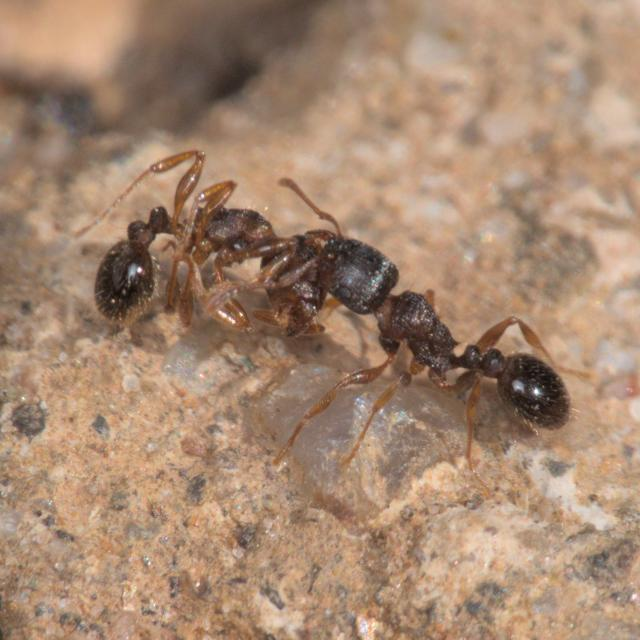Tetramorium: (300, 187, 616, 465), (56, 118, 350, 376)
